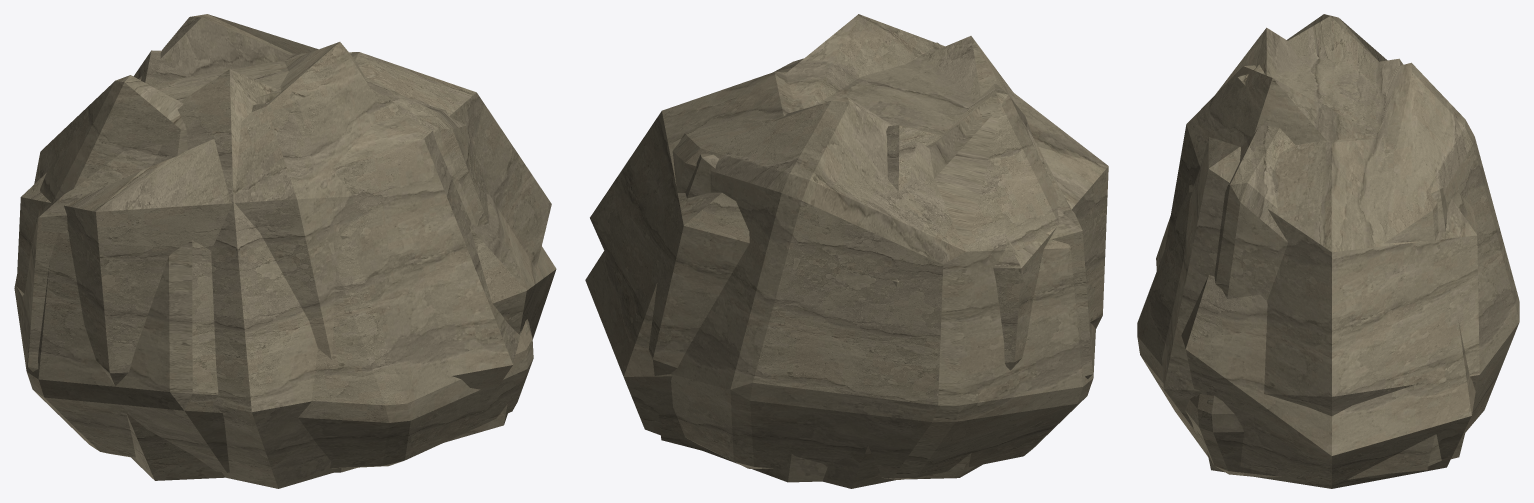
Rendered from env_rock_boulder_b_v001.glb.
3 views of the same model, side by side, from view 1: azimuth 30°, elevation 25°; view 2: azimuth 150°, elevation 25°; view 3: azimuth 270°, elevation 25° (orthographic). The views are drawn at different scales.
Parts seen in each view (by area): view 1: env_rock_boulder_b_LOD0_mesh, env_rock_boulder_b_LOD2_mesh, env_rock_boulder_b_LOD1_mesh; view 2: env_rock_boulder_b_LOD0_mesh, env_rock_boulder_b_LOD2_mesh, env_rock_boulder_b_LOD1_mesh; view 3: env_rock_boulder_b_LOD2_mesh, env_rock_boulder_b_LOD0_mesh, env_rock_boulder_b_LOD1_mesh.
Boxes of the visible parts, x1,y1,x2,y2 form: env_rock_boulder_b_LOD0_mesh: (14,14,533,472); env_rock_boulder_b_LOD2_mesh: (28,50,551,488); env_rock_boulder_b_LOD1_mesh: (16,42,556,480); env_rock_boulder_b_LOD0_mesh: (670,42,1095,479); env_rock_boulder_b_LOD2_mesh: (590,36,1092,488); env_rock_boulder_b_LOD1_mesh: (585,14,1108,482); env_rock_boulder_b_LOD2_mesh: (1156,27,1479,459); env_rock_boulder_b_LOD0_mesh: (1137,14,1519,479); env_rock_boulder_b_LOD1_mesh: (1165,65,1475,488).
Size of the model in its own units: 2.22 by 1.57 by 1.6.
3 materials, 3 textured.
